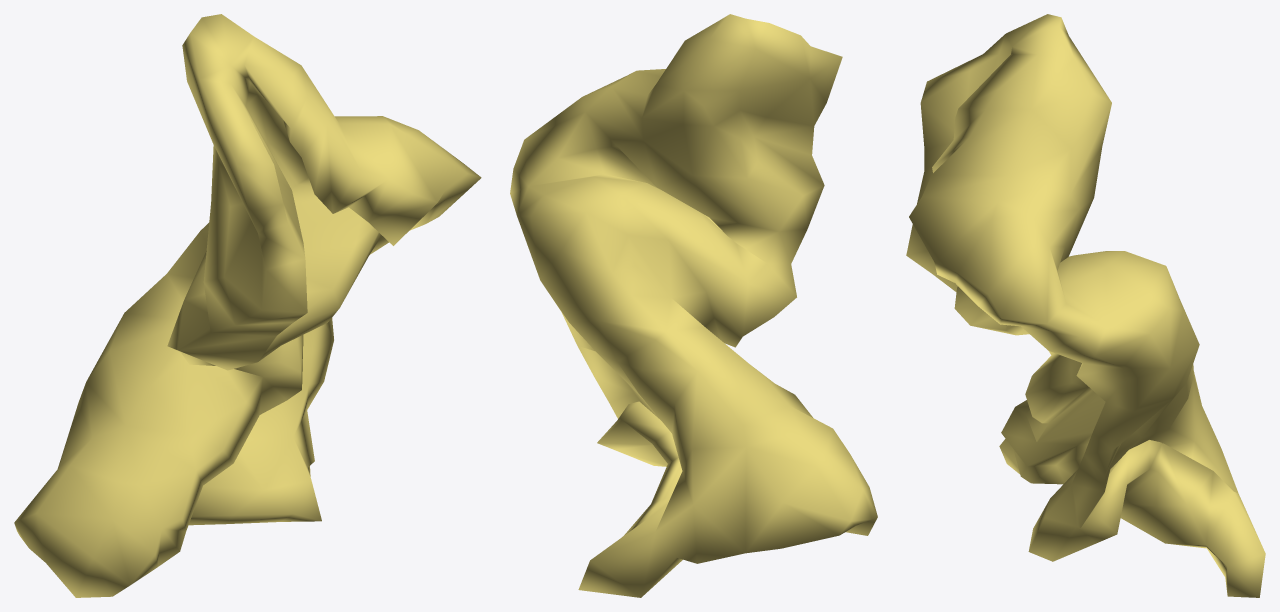
The model's file is superior-occipital-gyri-r.glb.
The picture shows the model from 3 angles, left to right: view 1: azimuth 30°, elevation 25°; view 2: azimuth 150°, elevation 25°; view 3: azimuth 270°, elevation 25°; orthographic projection. The views are drawn at different scales.
Parts seen in each view (by area): view 1: Superior occipital gyri.r; view 2: Superior occipital gyri.r; view 3: Superior occipital gyri.r.
Boxes of the visible parts, left/top/right/bottom form: Superior occipital gyri.r: left=14, top=14, right=481, bottom=597; Superior occipital gyri.r: left=510, top=14, right=877, bottom=597; Superior occipital gyri.r: left=906, top=14, right=1265, bottom=597.
Bounding box in the file's own units: 0.0295 × 0.0397 × 0.0238.
